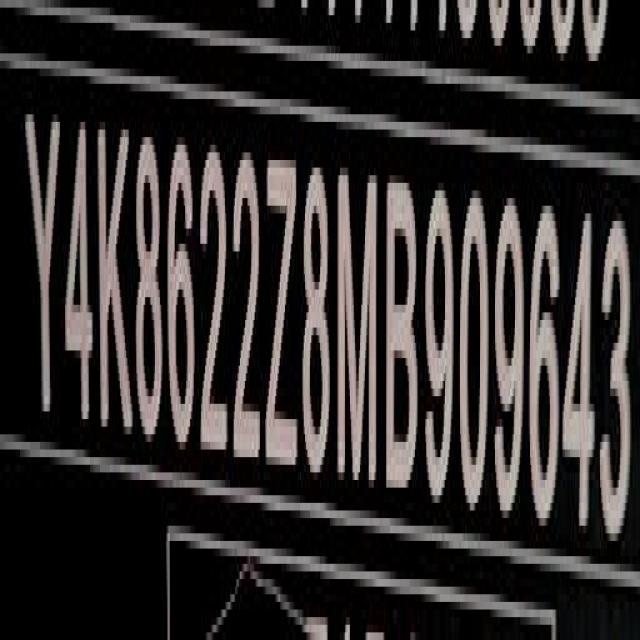0: (457, 178, 490, 519)
2: (231, 146, 263, 482), (198, 144, 228, 471)
3: (597, 212, 635, 542)
4: (562, 195, 594, 539), (64, 107, 95, 446)
6: (528, 186, 560, 534), (166, 136, 196, 454)
8: (301, 155, 332, 486), (134, 130, 166, 448)
9: (423, 184, 457, 514), (494, 183, 526, 525)
B: (385, 164, 418, 496)
K: (96, 96, 134, 449)
M: (336, 169, 380, 491)
Y: (26, 113, 61, 420)
Z: (264, 147, 302, 494)
